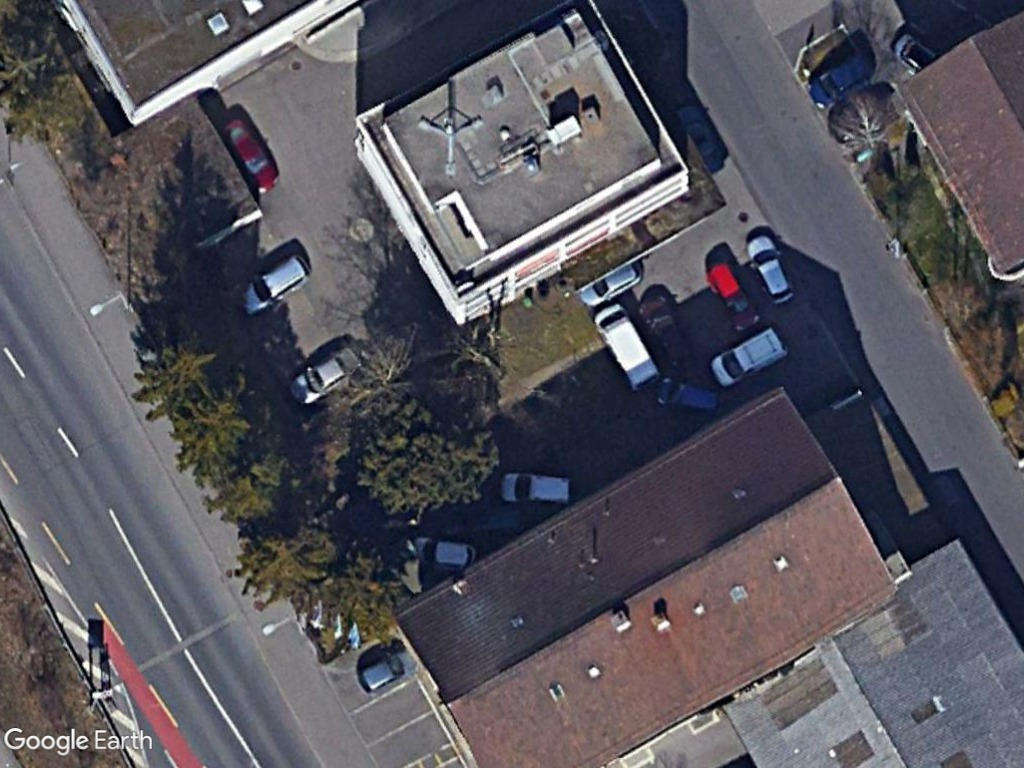car: (287, 342, 365, 407), (237, 250, 312, 317), (222, 116, 279, 197), (744, 234, 797, 307), (500, 467, 576, 512), (355, 648, 419, 698)
van: (592, 304, 660, 390), (709, 328, 787, 387)
